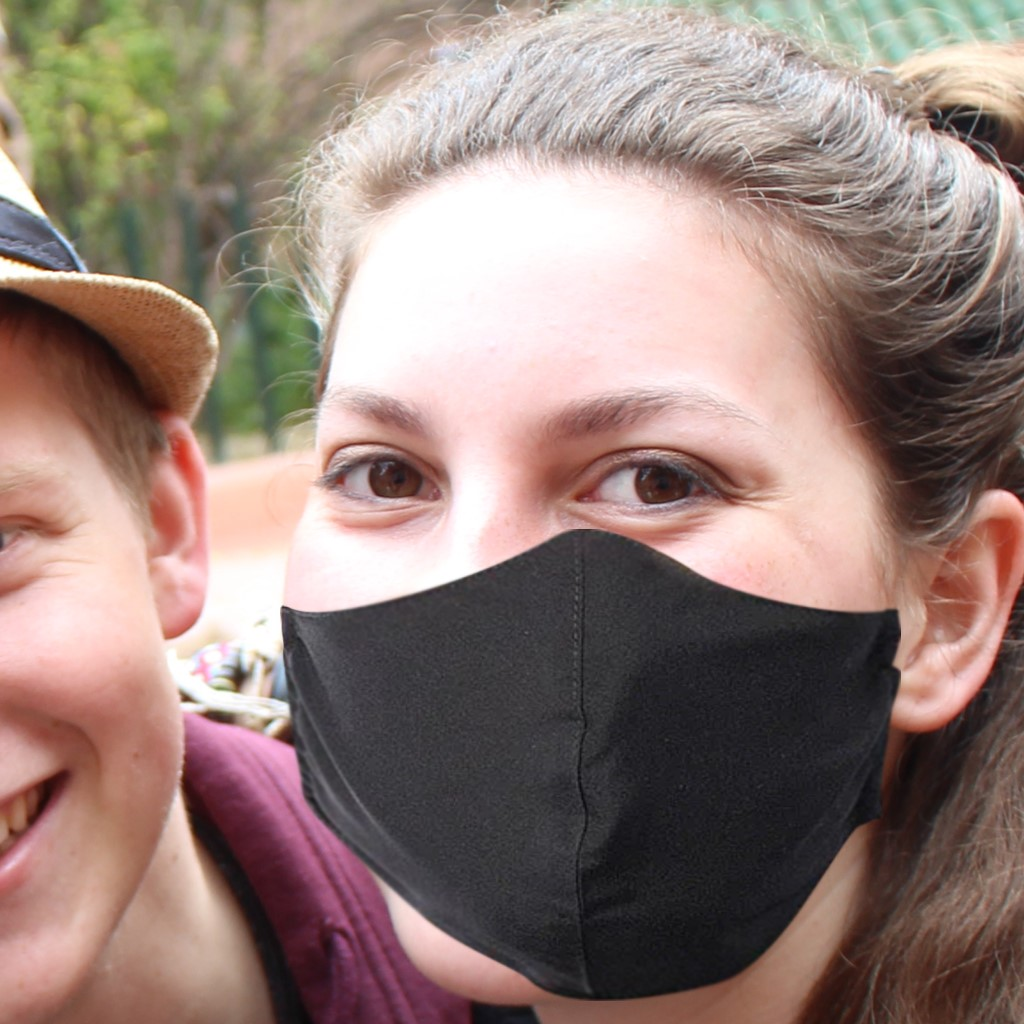con_mascara: (290, 94, 905, 980)
